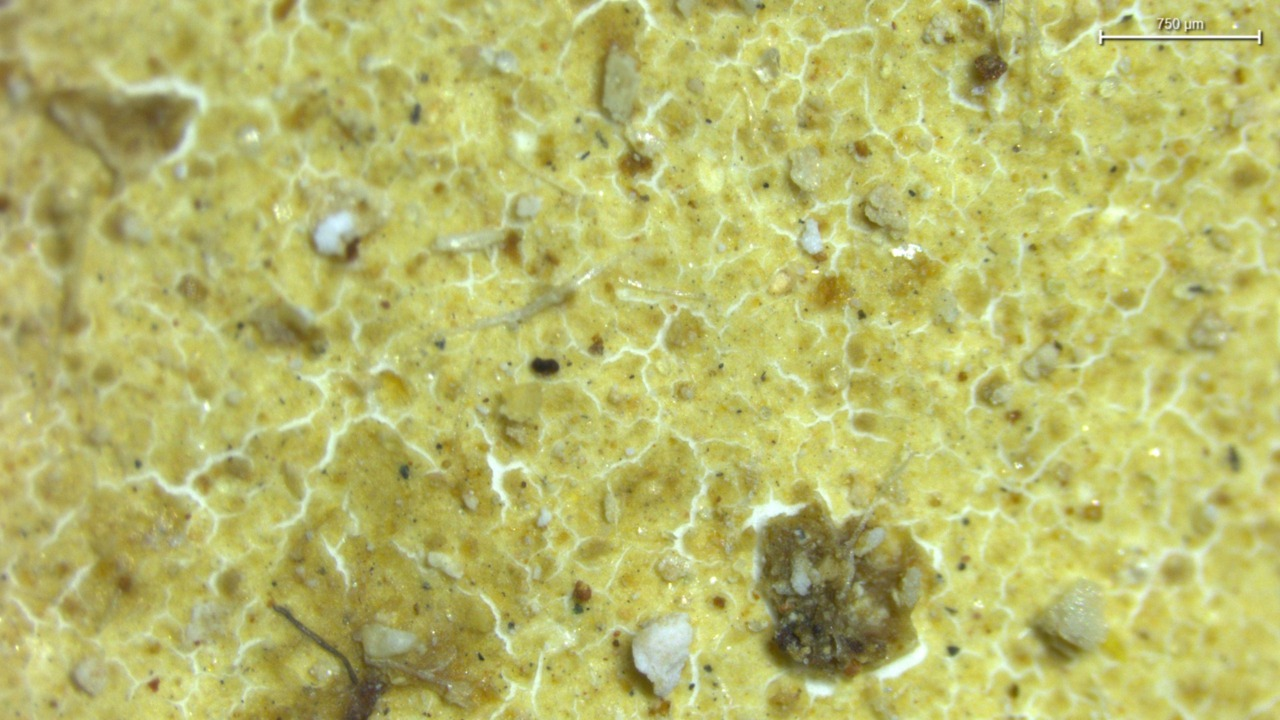microplastic_fragment: (1035, 579, 1106, 655), (632, 613, 693, 699), (313, 210, 357, 256)
